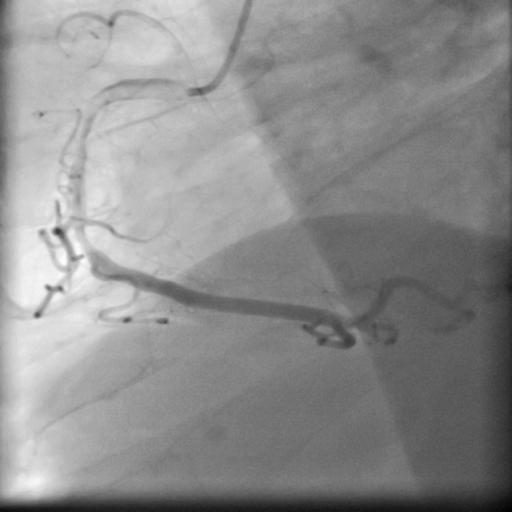Stenosis: (71, 217, 96, 258)
